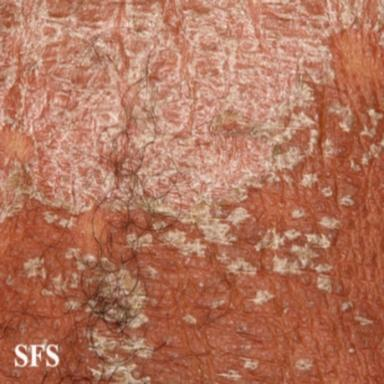Psoriasis: (0, 2, 384, 278), (23, 245, 153, 382), (254, 217, 340, 296), (359, 108, 384, 139), (329, 103, 353, 132), (361, 137, 384, 165), (249, 290, 275, 305), (300, 174, 318, 188), (219, 369, 241, 379), (241, 358, 259, 370), (296, 359, 313, 371), (320, 186, 335, 198), (338, 195, 354, 206), (354, 316, 373, 325), (182, 314, 197, 324), (292, 207, 305, 218), (350, 159, 361, 172), (210, 301, 227, 308), (342, 301, 353, 311)
